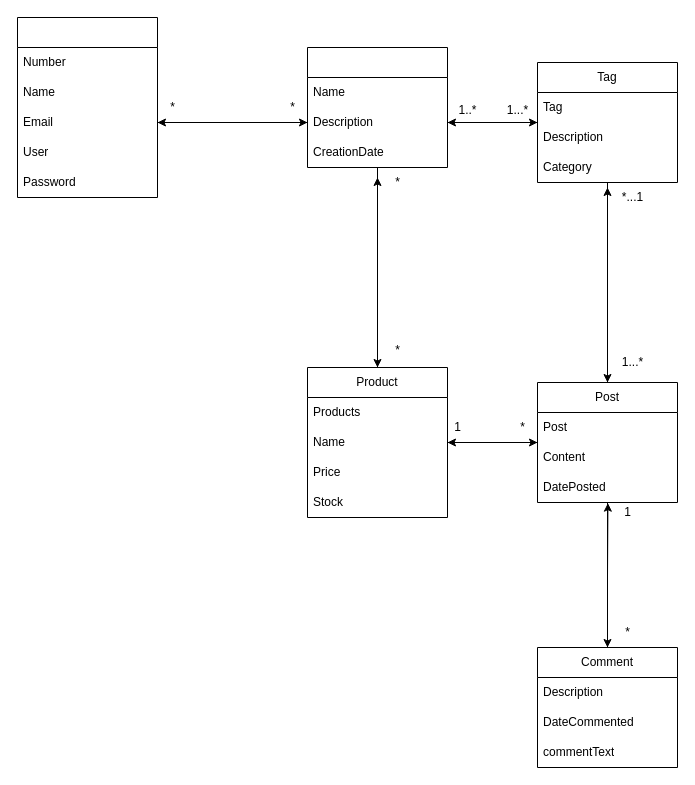
Image size: 695x785. Some labels were removed from this diagram. Here are the shapes that lost their labels. From the top down, the box of each, then its label:
(16, 16, 158, 198): Entrepreneur
(306, 46, 448, 168): Business
